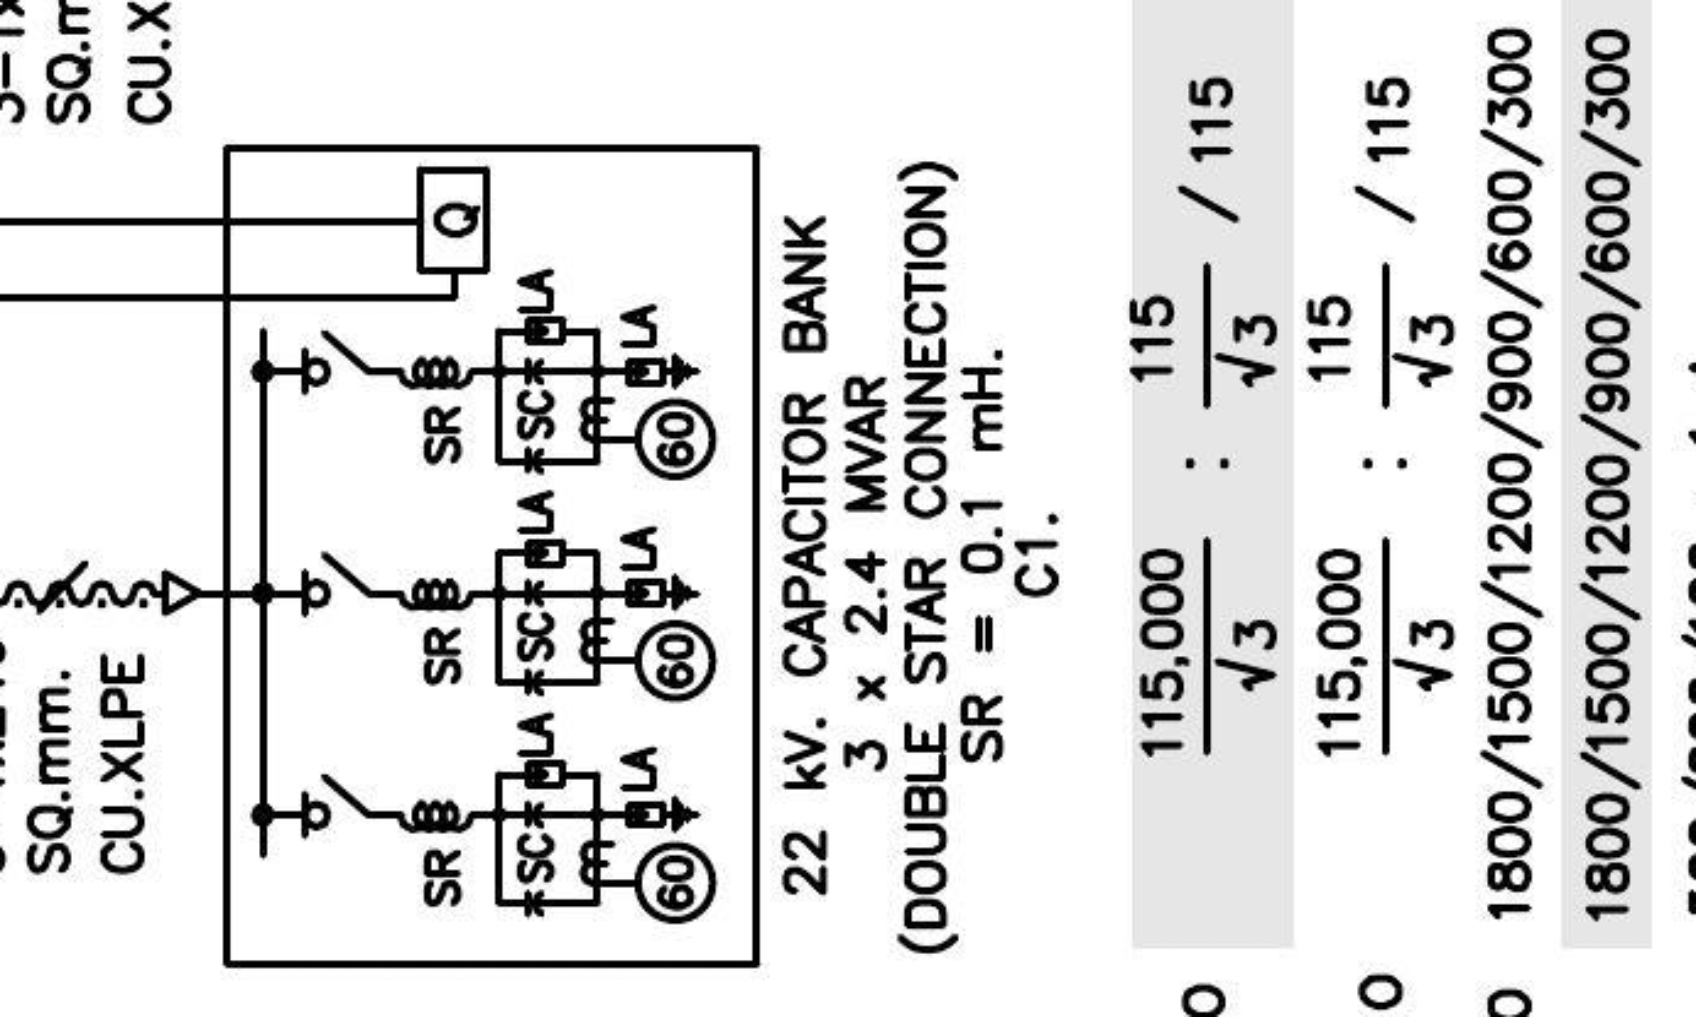22_cap_bank: (220, 143, 763, 971)
Q: (415, 165, 493, 276)
terminator_single: (160, 567, 202, 617)
